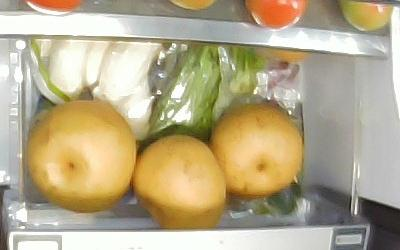pear: (27, 100, 136, 213), (133, 135, 226, 226), (211, 106, 302, 197)
